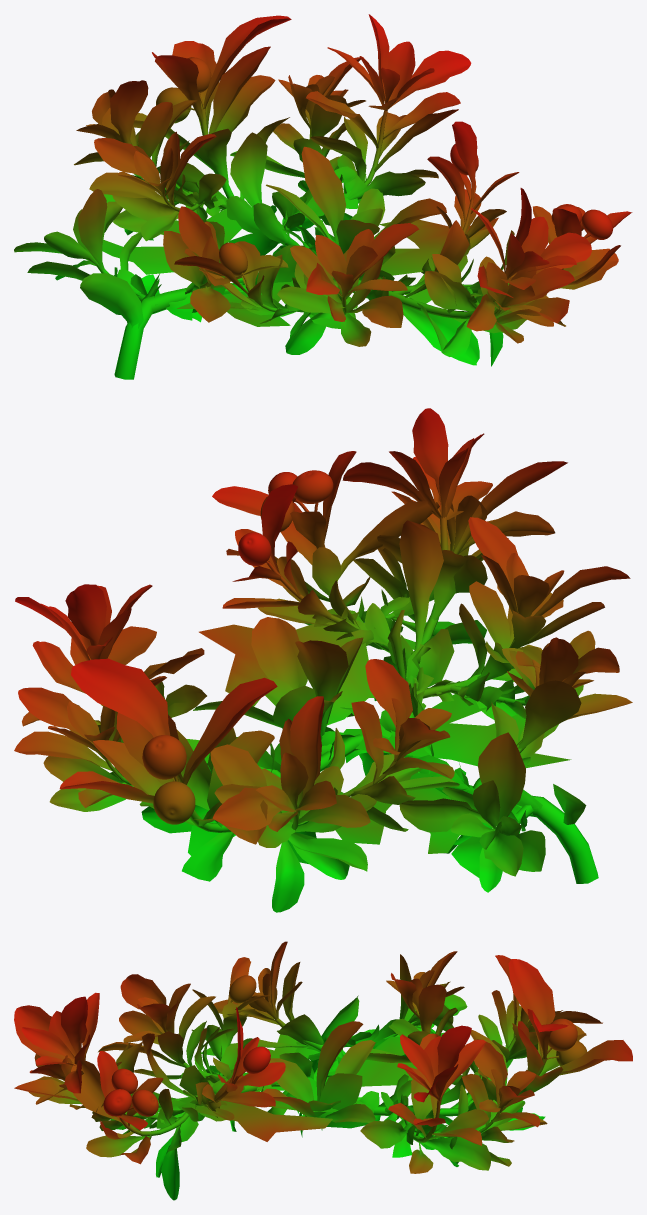
The model's file is Alpine Bearberry_LOD0_Var7_xb0gdazqx.fbx.
3 views of the same model, one above another, from view 1: azimuth 30°, elevation 25°; view 2: azimuth 150°, elevation 25°; view 3: azimuth 270°, elevation 25° (orthographic). The views are drawn at different scales.
Parts seen in each view (by area): view 1: _x8vm_Var7_LOD0; view 2: _x8vm_Var7_LOD0; view 3: _x8vm_Var7_LOD0.
Part boxes in pixels (x1,y1,x2,y2): _x8vm_Var7_LOD0: [14, 14, 632, 379]; _x8vm_Var7_LOD0: [14, 408, 632, 912]; _x8vm_Var7_LOD0: [14, 941, 632, 1200].
Size of the model in its own units: 24.95 by 12.2 by 34.65.
